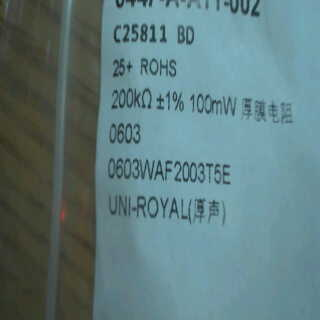200kR: (108, 88, 153, 112)
